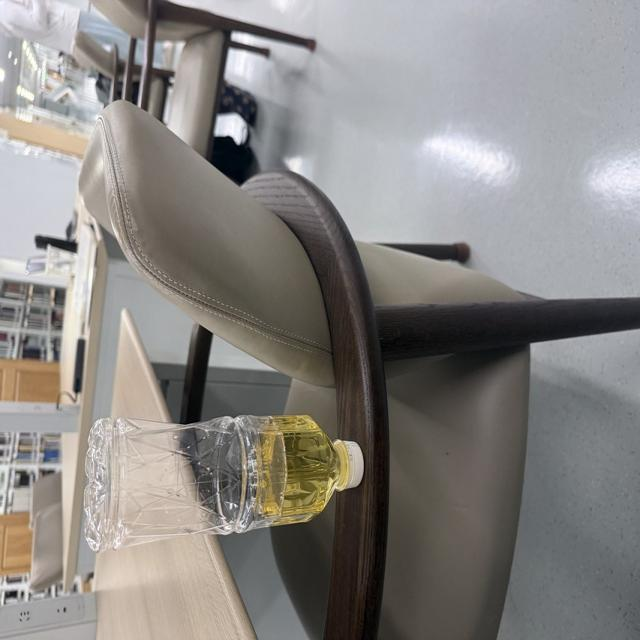low: (85, 415, 364, 551)
